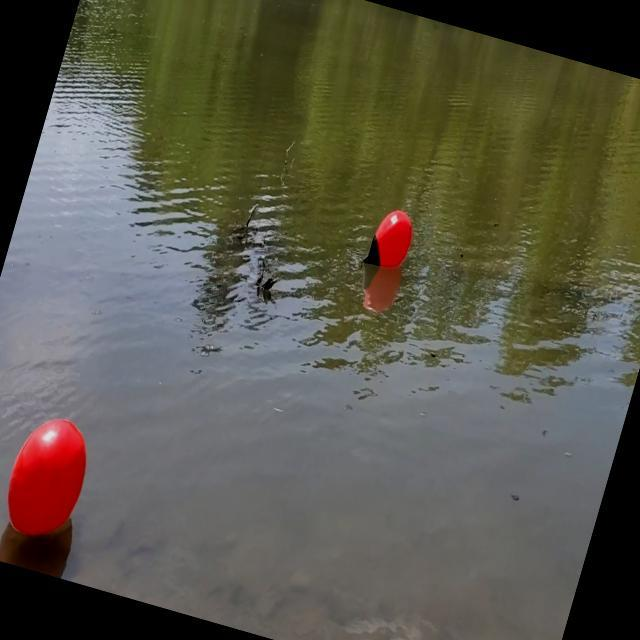buoy: (0, 408, 98, 552), (361, 203, 419, 276)
